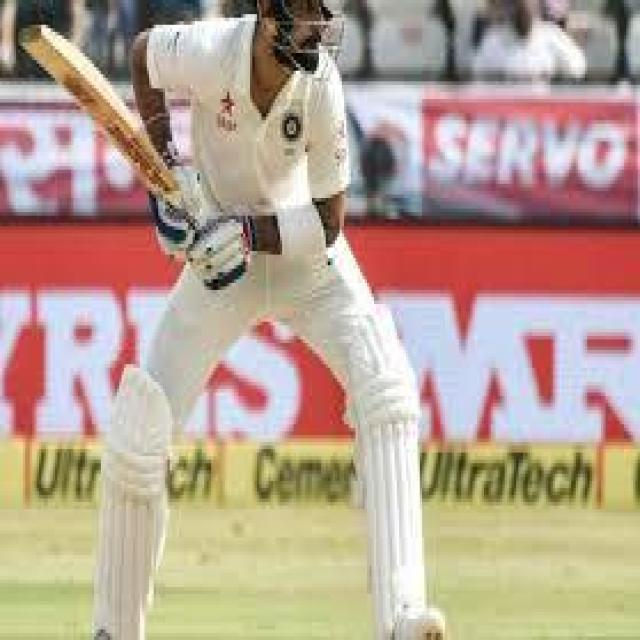bat: (17, 26, 190, 213)
toe: (15, 28, 49, 50)
